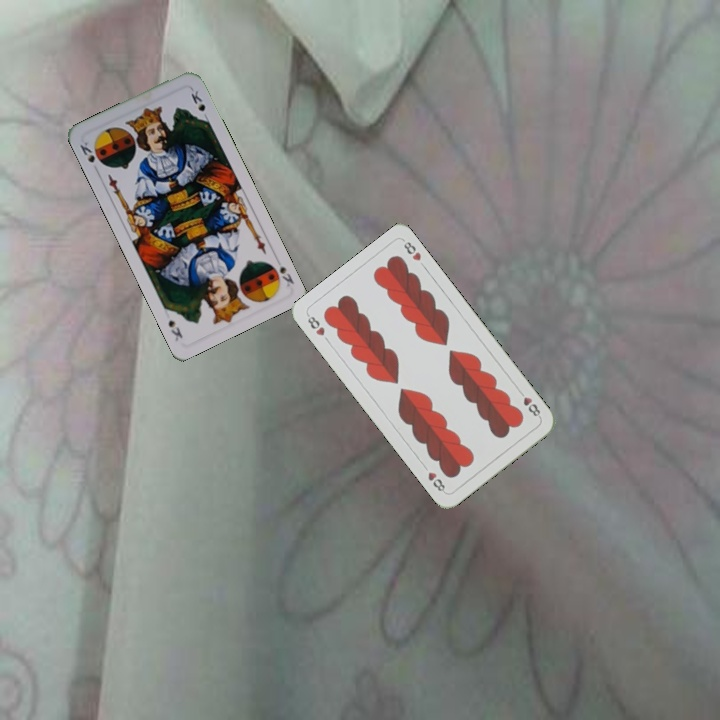H8: (514, 386, 543, 421), (303, 311, 327, 339)
SK: (76, 137, 105, 167), (275, 261, 297, 289)
